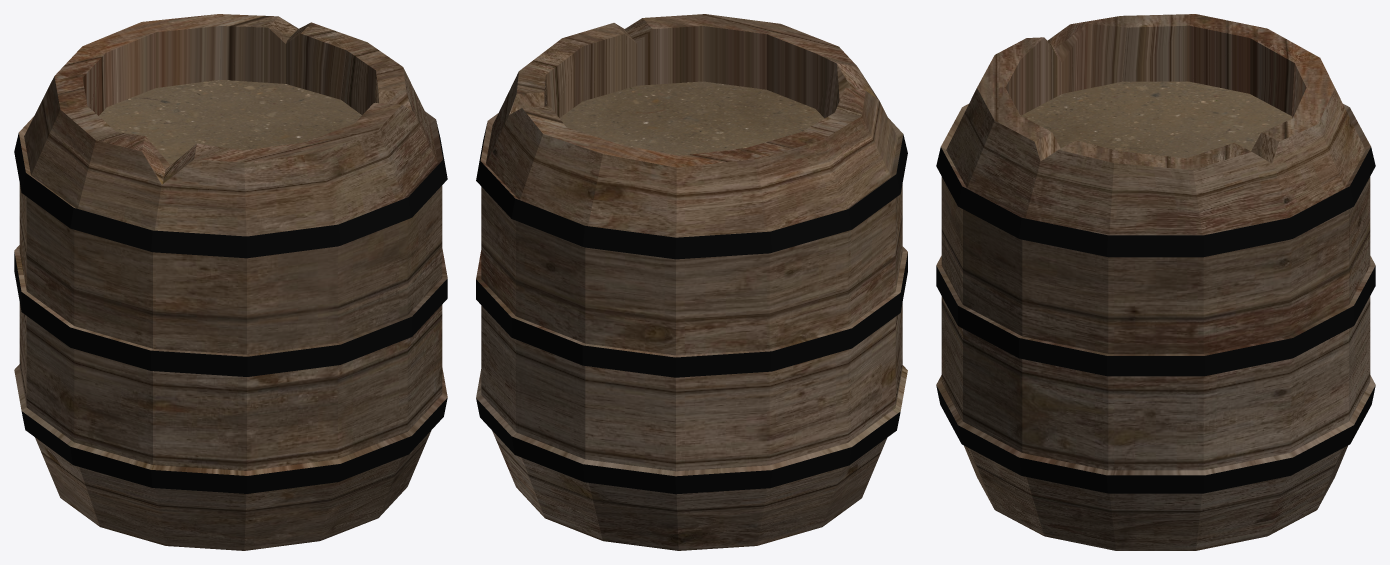
Rendered from tynnyri.glb.
3 renders of one model, left to right at view 1: azimuth 30°, elevation 25°; view 2: azimuth 150°, elevation 25°; view 3: azimuth 270°, elevation 25°, orthographic.
Visible parts, largest first — view 1: Cylinder; view 2: Cylinder; view 3: Cylinder.
Part boxes in pixels (x1=…): Cylinder: x1=14, y1=14, x2=447, y2=550; Cylinder: x1=476, y1=14, x2=907, y2=550; Cylinder: x1=936, y1=14, x2=1375, y2=550.
Bounding box in the file's own units: 1.2 × 1.22 × 1.23.
Materials: 3 (2 with a texture image).
